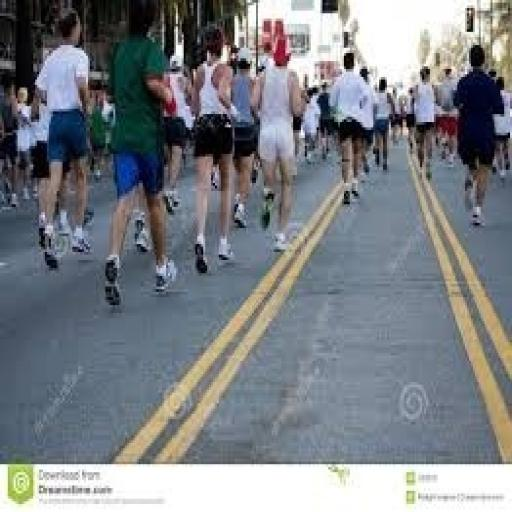running: (99, 0, 179, 310), (29, 5, 96, 271), (246, 29, 309, 255), (186, 24, 240, 276), (450, 40, 506, 231), (324, 48, 376, 207), (406, 61, 440, 183)
